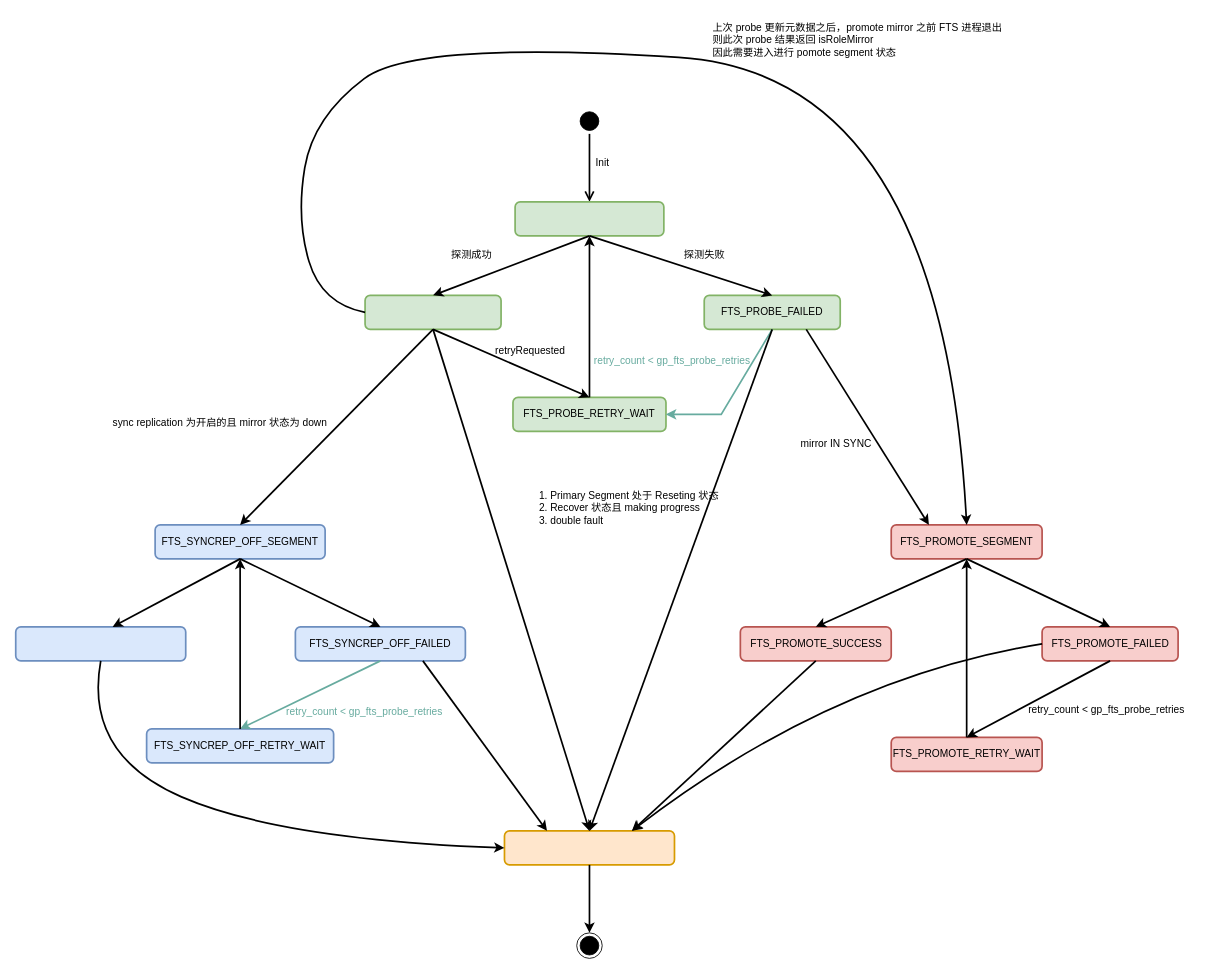
The diagram is 1210 pixels wide and 973 high, and some of its shapes have lost their labels. Each missing label, with the centre of its shape:
FTS_PROBE_SEGMENT: the point at 589,218
FTS_PROBE_SUCCESS: the point at 433,312
FTS_RESPONSE_PROCESSED: the point at 589,847
FTS_SYNCREP_OFF_SUCCESS: the point at 100,643
